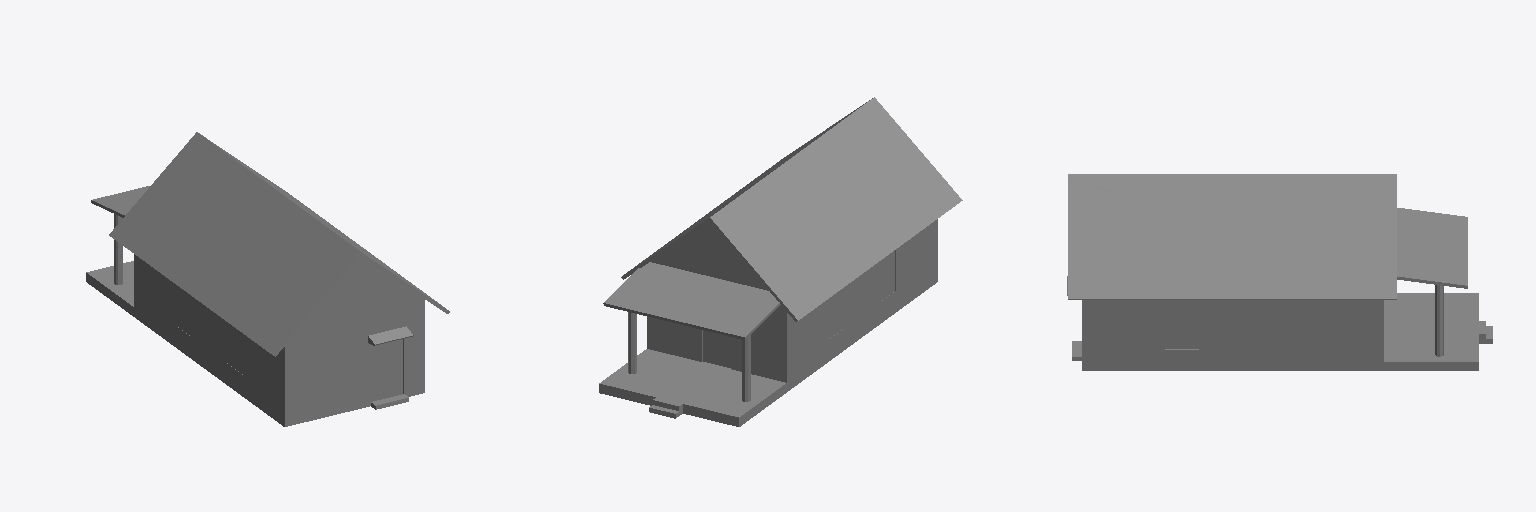
Rendered from farmhouse_tri.obj.
3 views of the same model, side by side, from view 1: azimuth 30°, elevation 25°; view 2: azimuth 150°, elevation 25°; view 3: azimuth 270°, elevation 25° (orthographic).
Parts seen in each view (by area): view 1: polySurface73; view 2: polySurface73; view 3: polySurface73.
Boxes of the visible parts, box(x1,y1,x2,y2) form: polySurface73: box(86, 132, 449, 426); polySurface73: box(599, 97, 962, 426); polySurface73: box(1067, 174, 1492, 370).
Size of the model in its own units: 24.28 by 21.28 by 50.36.